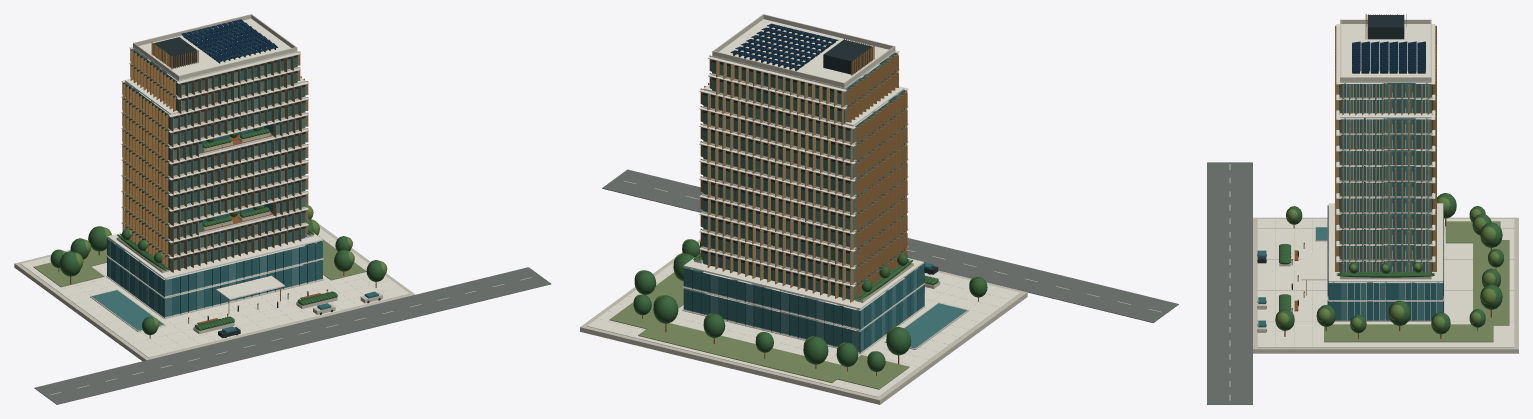
File: solstice-14.glb
3 renders of one model, left to right at view 1: azimuth 30°, elevation 25°; view 2: azimuth 150°, elevation 25°; view 3: azimuth 270°, elevation 25°, orthographic. The views are drawn at different scales.
Parts seen in each view (by area): view 1: Street, Paved plaza, Site plinth, Roof slab, Roof parapet (×2), Reflecting pool, Podium terrace roof, Screened roof plant, Entrance floating canopy, West garden, East garden, L2 floor plate; view 2: Street, Paved plaza, Site plinth, North garden, Roof slab, Tree canopy (×3), Roof parapet (×2), East garden, Reflecting pool, West garden, Podium terrace roof, Screened roof plant; view 3: Paved plaza, Street, Site plinth, East garden, Roof slab, North garden, Podium terrace roof (×3), Screened roof plant, Tree canopy (×3), Entrance floating canopy, West garden, Upper setback roof (+6 smaller).
Part boxes in pixels (left/top/right/bottom): Street: left=34, top=267, right=551, bottom=404; Paved plaza: left=21, top=228, right=409, bottom=357; Site plinth: left=14, top=218, right=414, bottom=361; Roof slab: left=133, top=18, right=297, bottom=81; Roof parapet (×2): left=133, top=14, right=296, bottom=80; Reflecting pool: left=91, top=290, right=163, bottom=330; Podium terrace roof: left=173, top=238, right=310, bottom=276; Screened roof plant: left=153, top=37, right=197, bottom=68; Entrance floating canopy: left=216, top=275, right=284, bottom=299; West garden: left=33, top=262, right=104, bottom=287; East garden: left=318, top=236, right=366, bottom=280; L2 floor plate: left=123, top=245, right=322, bottom=296; Street: left=602, top=169, right=1178, bottom=322; Paved plaza: left=587, top=243, right=1020, bottom=397; Site plinth: left=580, top=239, right=1027, bottom=404; North garden: left=638, top=321, right=851, bottom=382; Roof slab: left=712, top=19, right=895, bottom=89; Tree canopy (×3): left=653, top=295, right=911, bottom=364; Roof parapet (×2): left=713, top=14, right=895, bottom=87; East garden: left=609, top=272, right=683, bottom=328; Reflecting pool: left=904, top=303, right=967, bottom=348; West garden: left=837, top=355, right=909, bottom=389; Podium terrace roof: left=697, top=264, right=850, bottom=306; Screened roof plant: left=823, top=39, right=871, bottom=74; Paved plaza: left=1257, top=219, right=1514, bottom=347; Street: left=1207, top=162, right=1252, bottom=404; Site plinth: left=1253, top=217, right=1518, bottom=353; East garden: left=1324, top=324, right=1493, bottom=342; Roof slab: left=1340, top=24, right=1431, bottom=82; North garden: left=1473, top=240, right=1509, bottom=325; Podium terrace roof (×3): left=1328, top=209, right=1443, bottom=282; Screened roof plant: left=1367, top=15, right=1404, bottom=39; Tree canopy (×3): left=1388, top=222, right=1502, bottom=325; Entrance floating canopy: left=1301, top=252, right=1327, bottom=280; West garden: left=1445, top=221, right=1500, bottom=243; Upper setback roof: left=1340, top=113, right=1431, bottom=118.
Size of the model in its own units: 125 by 59.55 by 68.
